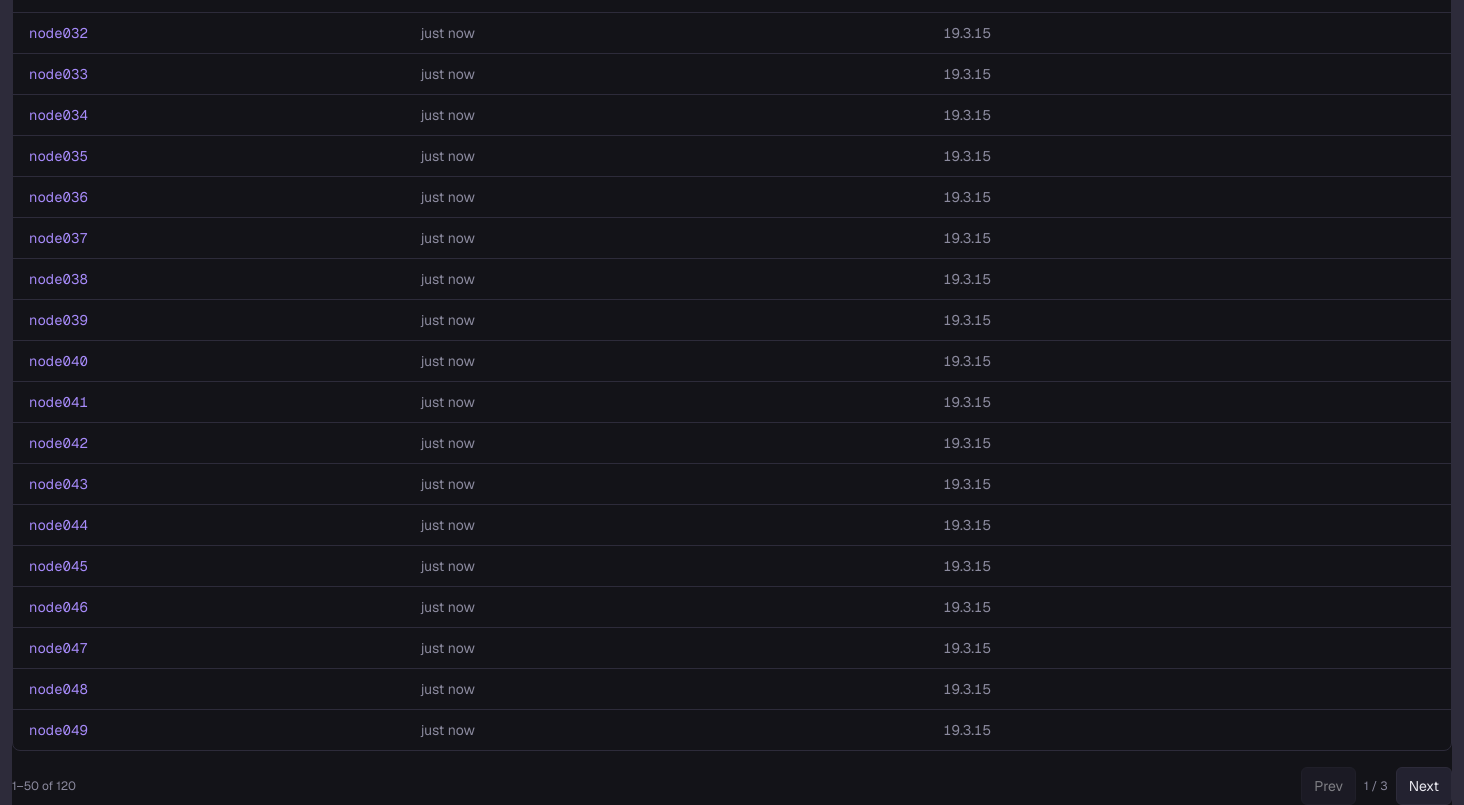
Test: NodesTable › paginates large lists to 50 rows per page
(page scrolled)
expect the text "1–50 of 120" is shown: met, box x1=12 y1=778 x2=76 y2=794
Click the button with aria-label "Next page". click: [1424, 786]
box: x1=1396 y1=767 x2=1452 y2=804
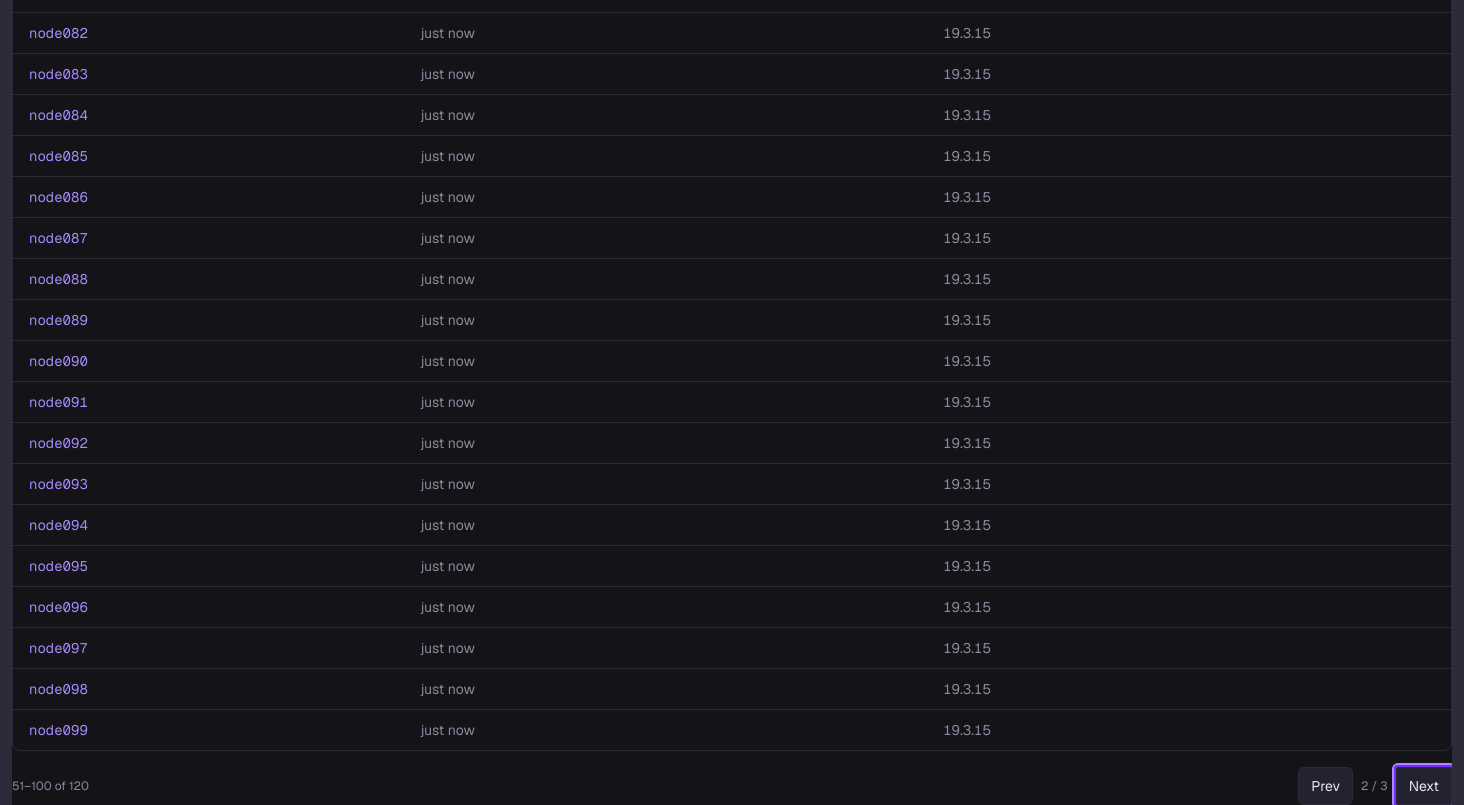
expect the text "51–100 of 120" is shown: met, box x1=12 y1=778 x2=89 y2=794
